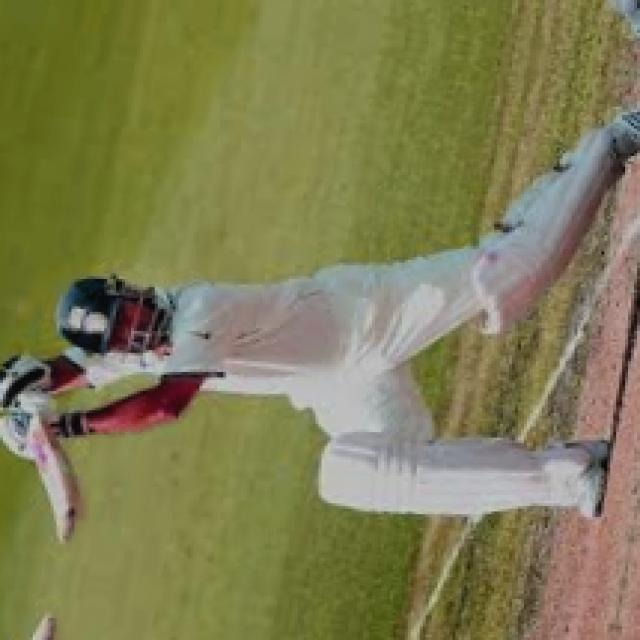bat: (14, 405, 85, 550)
toe: (56, 510, 78, 545)
